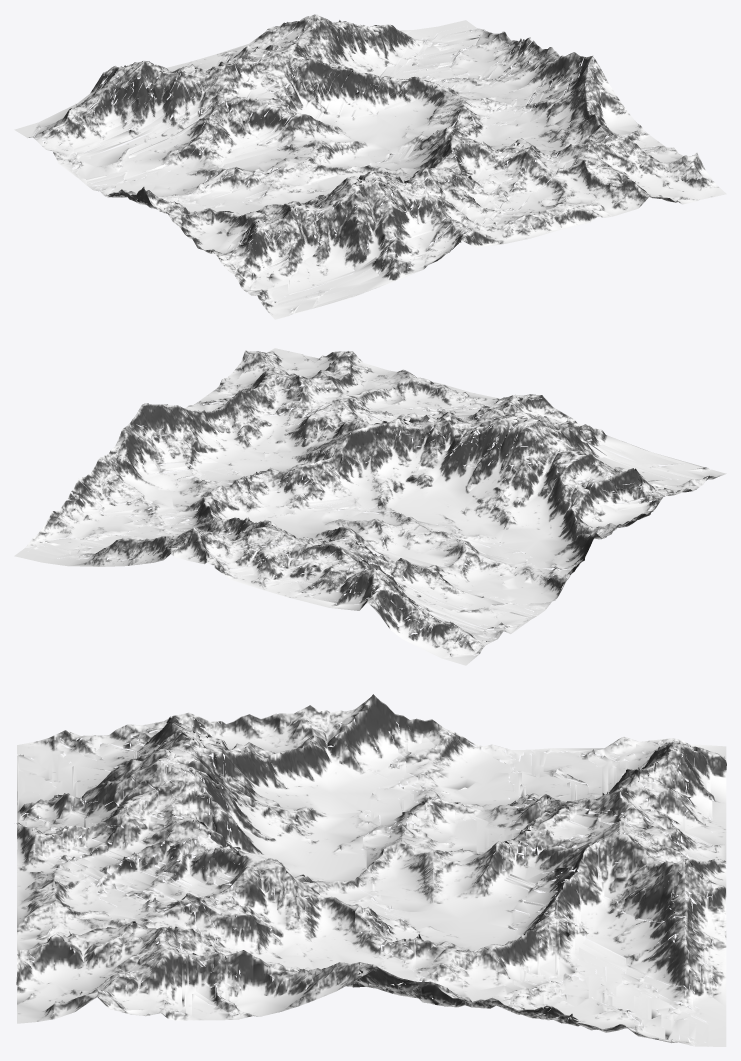
The model's file is nevada.glb.
3 views of the same model, one above another, from view 1: azimuth 30°, elevation 25°; view 2: azimuth 150°, elevation 25°; view 3: azimuth 270°, elevation 25° (orthographic). The views are drawn at different scales.
Visible parts, largest first — view 1: nevada; view 2: nevada; view 3: nevada.
Part boxes in pixels (x1,y1,x2,y2): nevada: [14, 14, 726, 319]; nevada: [14, 348, 726, 665]; nevada: [16, 694, 726, 1046].
Bounding box in the file's own units: 3068 × 443 × 3075.
1 material, 1 textured.
